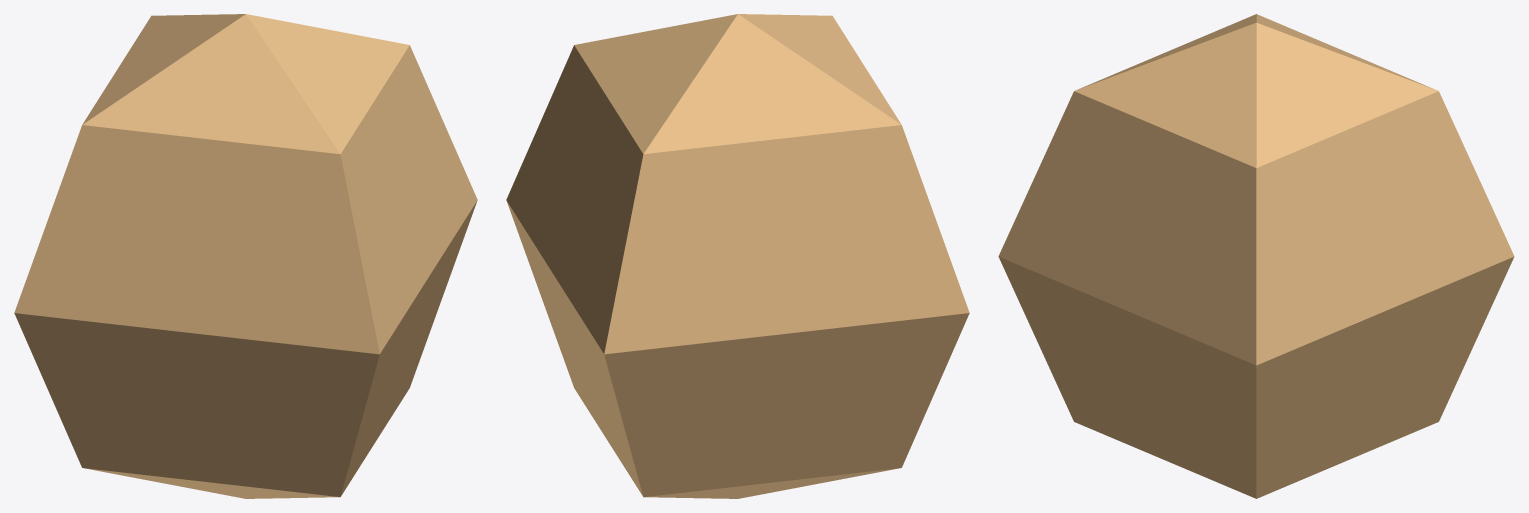
File: fiber.fbx
3 views of the same model, side by side, from view 1: azimuth 30°, elevation 25°; view 2: azimuth 150°, elevation 25°; view 3: azimuth 270°, elevation 25° (orthographic). The views are drawn at different scales.
Parts seen in each view (by area): view 1: Sphere; view 2: Sphere; view 3: Sphere.
Part boxes in pixels (left/top/right/bottom): Sphere: left=14, top=14, right=477, bottom=498; Sphere: left=506, top=14, right=969, bottom=498; Sphere: left=998, top=14, right=1514, bottom=498.
Bounding box in the file's own units: 89.32 × 89.32 × 89.32.
